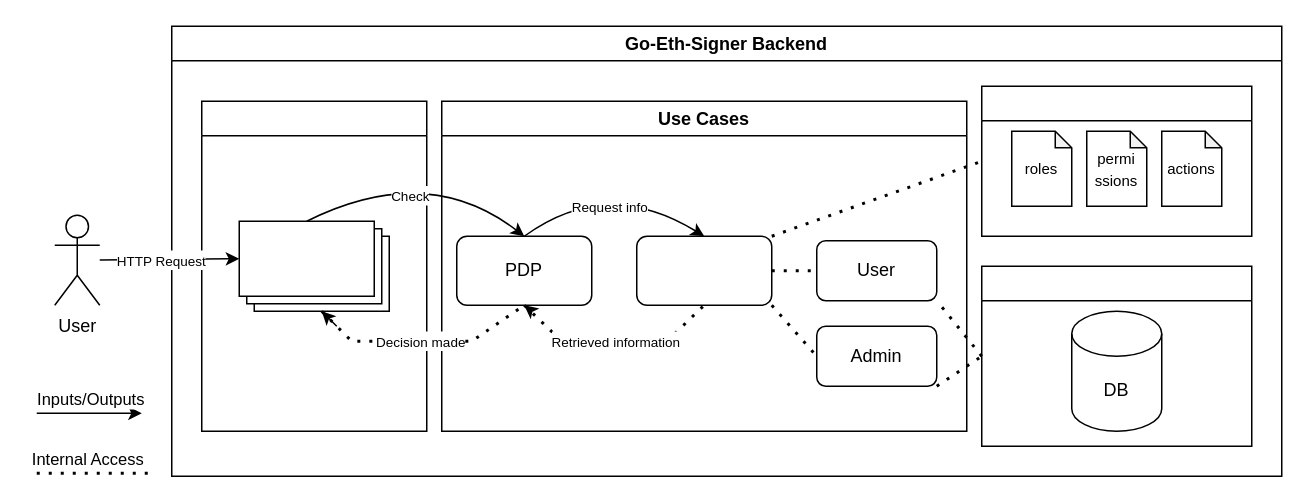
Image size: 1308x503. Some labels were removed from this diagram. Here are the shapes that lost their labels. From the top down, the box of each, then its label:
(980, 85, 1252, 236): Embedded YAML configuration
(200, 100, 427, 431): HTTP Infra
(238, 220, 389, 311): PEP Middleware
(635, 235, 772, 305): PIP
(980, 265, 1252, 446): Storage
